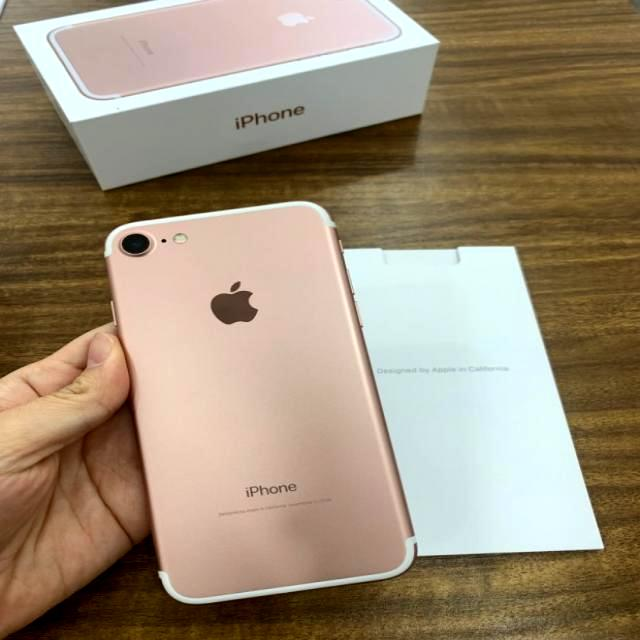lens_back: (118, 230, 154, 258)
phone: (99, 199, 426, 614)
